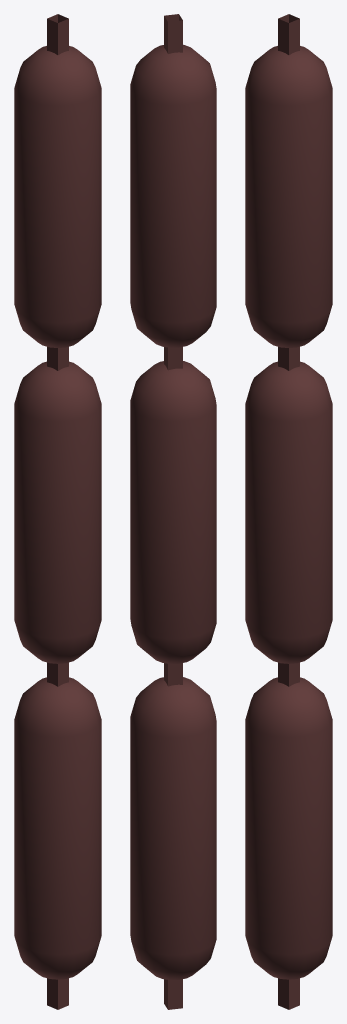
Rendered from Salami.fbx.
3 views of the same model, side by side, from view 1: azimuth 90°, elevation 25°; view 2: azimuth 150°, elevation 25°; view 3: azimuth 270°, elevation 25° (orthographic).
Visible parts, largest first — view 1: Capsule_1, Capsule_0, Capsule_2, Cylinder; view 2: Capsule_2, Capsule_0, Capsule_1, Cylinder; view 3: Capsule_1, Capsule_0, Capsule_2, Cylinder.
Part boxes in pixels (x1,y1,x2,y2): Capsule_1: [14, 361, 101, 663]; Capsule_0: [14, 677, 101, 979]; Capsule_2: [14, 46, 101, 347]; Cylinder: [47, 14, 68, 1009]; Capsule_2: [130, 44, 216, 347]; Capsule_0: [130, 677, 216, 980]; Capsule_1: [130, 361, 216, 663]; Cylinder: [164, 14, 182, 1009]; Capsule_1: [245, 361, 332, 663]; Capsule_0: [245, 677, 332, 979]; Capsule_2: [245, 46, 332, 347]; Cylinder: [278, 14, 299, 1009].
Size of the model in its own units: 4 by 50 by 4.
